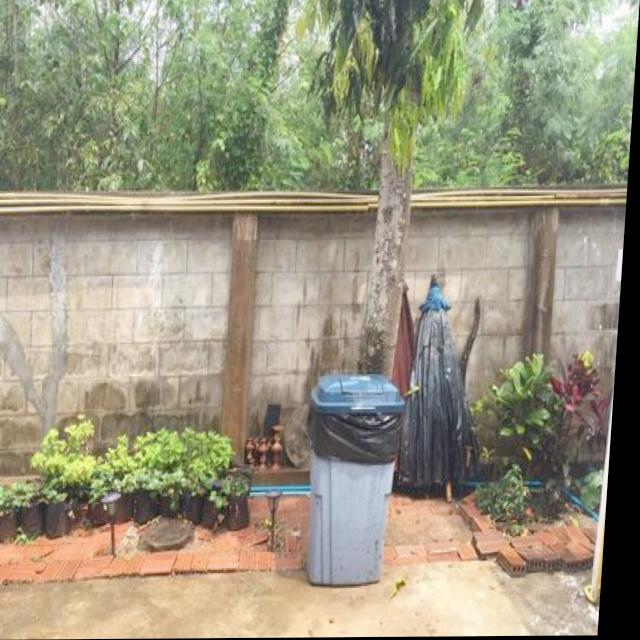garbage_bin: (305, 372, 411, 587)
